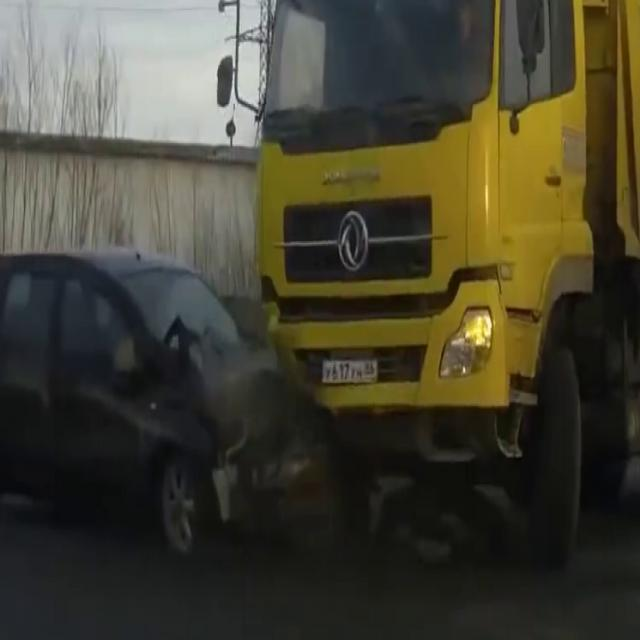accident: (103, 190, 421, 576)
